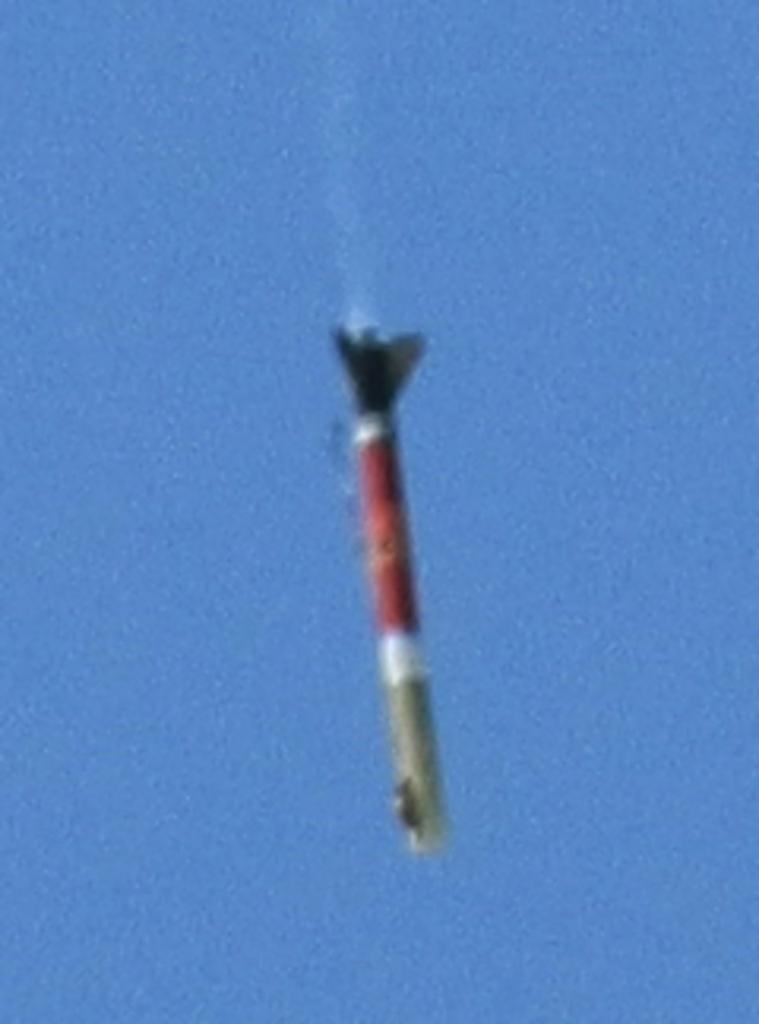Missile: (329, 322, 452, 856)
